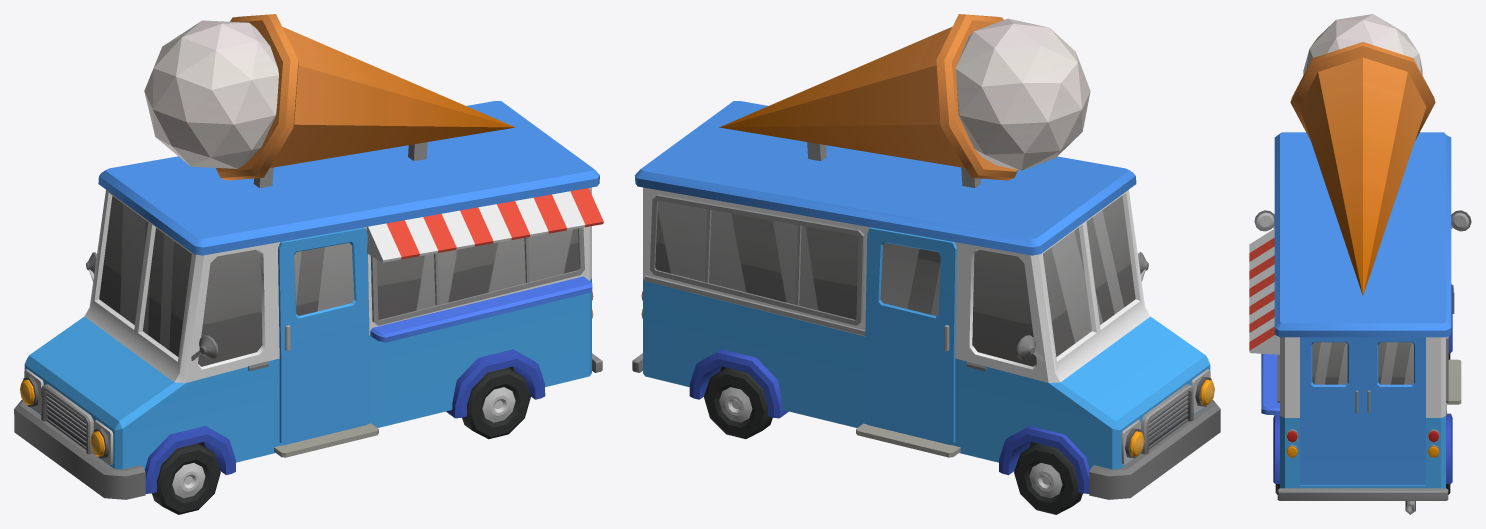
The model's file is IceTruck_2_A.fbx.
3 views of the same model, side by side, from view 1: azimuth 30°, elevation 25°; view 2: azimuth 150°, elevation 25°; view 3: azimuth 270°, elevation 25° (orthographic). The views are drawn at different scales.
Visible parts, largest first — view 1: IceTruck_2_A, RL, FL; view 2: IceTruck_2_A, FR, RR; view 3: IceTruck_2_A.
Part boxes in pixels (<box>): IceTruck_2_A: <box>14,14,603,499</box>; RL: <box>462,367,530,439</box>; FL: <box>152,443,220,514</box>; IceTruck_2_A: <box>632,14,1220,499</box>; FR: <box>1014,443,1082,514</box>; RR: <box>704,368,772,438</box>; IceTruck_2_A: <box>1249,14,1471,514</box>.
Bounding box in the file's own units: 416 × 343 × 184.
